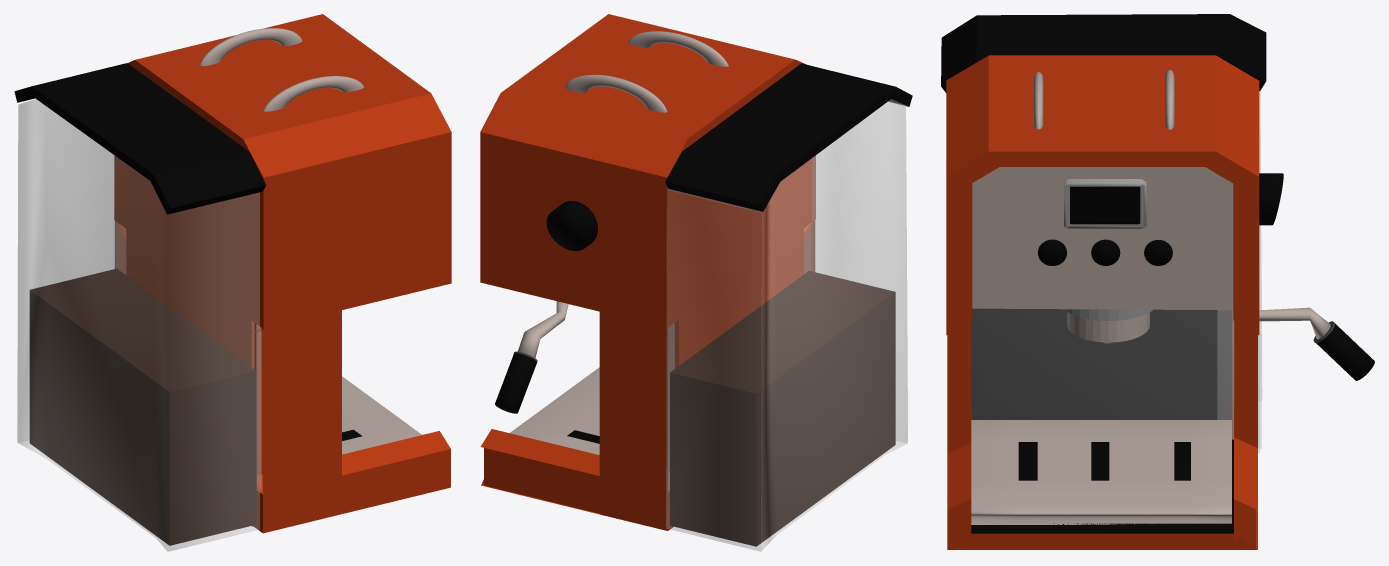
File: coffee_machine.fbx
3 renders of one model, left to right at view 1: azimuth 30°, elevation 25°; view 2: azimuth 150°, elevation 25°; view 3: azimuth 270°, elevation 25°, orthographic. The views are drawn at different scales.
Parts seen in each view (by area): view 1: Cube.008, Cube.001, Cube.010, Cube, Cube.007, Cube.005, Torus.001, Torus; view 2: Cube.008, Cube.001, Cube.010, Cube, Cube.007, Cube.005, Cylinder.007, Cylinder.010, Torus.001, Torus, Cylinder.008; view 3: Cube.001, Cube.002, Cube.008, Plane, Cube.005, Cube, Cube.007, Cube.006, Cube.004, Cylinder.001, Cylinder.010, Cube.003 (+8 smaller).
Part boxes in pixels (<box>): Cube.008: <box>17,99,261,551</box>; Cube.001: <box>114,14,451,329</box>; Cube.010: <box>29,268,256,545</box>; Cube: <box>115,221,450,533</box>; Cube.007: <box>14,63,266,214</box>; Cube.005: <box>342,376,421,454</box>; Torus.001: <box>200,28,302,65</box>; Torus: <box>263,76,363,111</box>; Cube.008: <box>666,99,907,551</box>; Cube.001: <box>480,14,815,327</box>; Cube.010: <box>670,271,895,546</box>; Cube: <box>480,220,814,530</box>; Cube.007: <box>665,63,912,211</box>; Cube.005: <box>509,367,599,454</box>; Cylinder.007: <box>546,201,597,251</box>; Cylinder.010: <box>495,353,536,413</box>; Torus.001: <box>565,74,667,112</box>; Torus: <box>628,31,728,66</box>; Cylinder.008: <box>517,301,568,357</box>; Cube.001: <box>946,55,1259,335</box>; Cube.002: <box>972,167,1233,310</box>; Cube.008: <box>971,91,1262,452</box>; Plane: <box>971,308,1231,419</box>; Cube.005: <box>971,420,1231,524</box>; Cube: <box>947,310,1257,549</box>; Cube.007: <box>941,14,1266,92</box>; Cube.006: <box>971,439,1233,533</box>; Cube.004: <box>1070,186,1140,224</box>; Cylinder.001: <box>1067,312,1149,342</box>; Cylinder.010: <box>1316,323,1374,380</box>; Cube.003: <box>1064,179,1146,228</box>.
Size of the model in its own units: 303 by 410 by 381.
